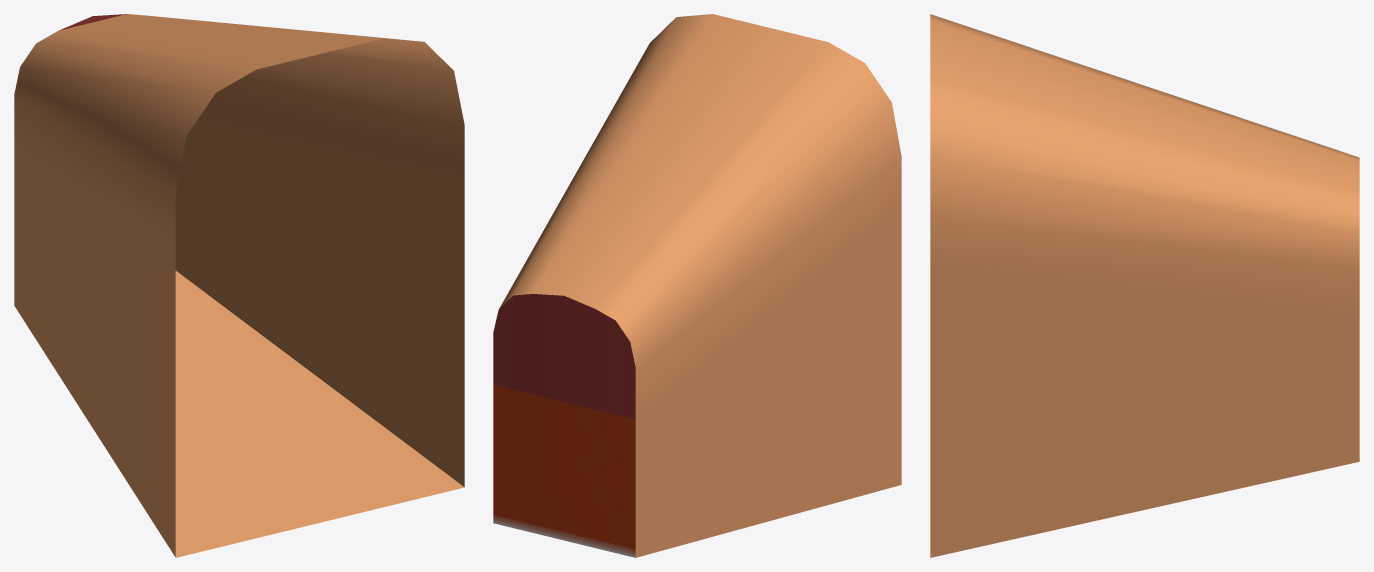
Rendered from Barrack_Light_2.fbx.
3 views of the same model, side by side, from view 1: azimuth 30°, elevation 25°; view 2: azimuth 150°, elevation 25°; view 3: azimuth 270°, elevation 25° (orthographic). The views are drawn at different scales.
Parts seen in each view (by area): view 1: Light2; view 2: Light2, LightDoor; view 3: Light2.
Boxes of the visible parts, x1,y1,x2,y2 form: Light2: (14,14,464,557); Light2: (499,14,901,557); LightDoor: (493,294,635,557); Light2: (930,14,1359,557).
Size of the model in its own units: 0.4949 by 0.7669 by 0.6751.
2 materials, 1 textured.
